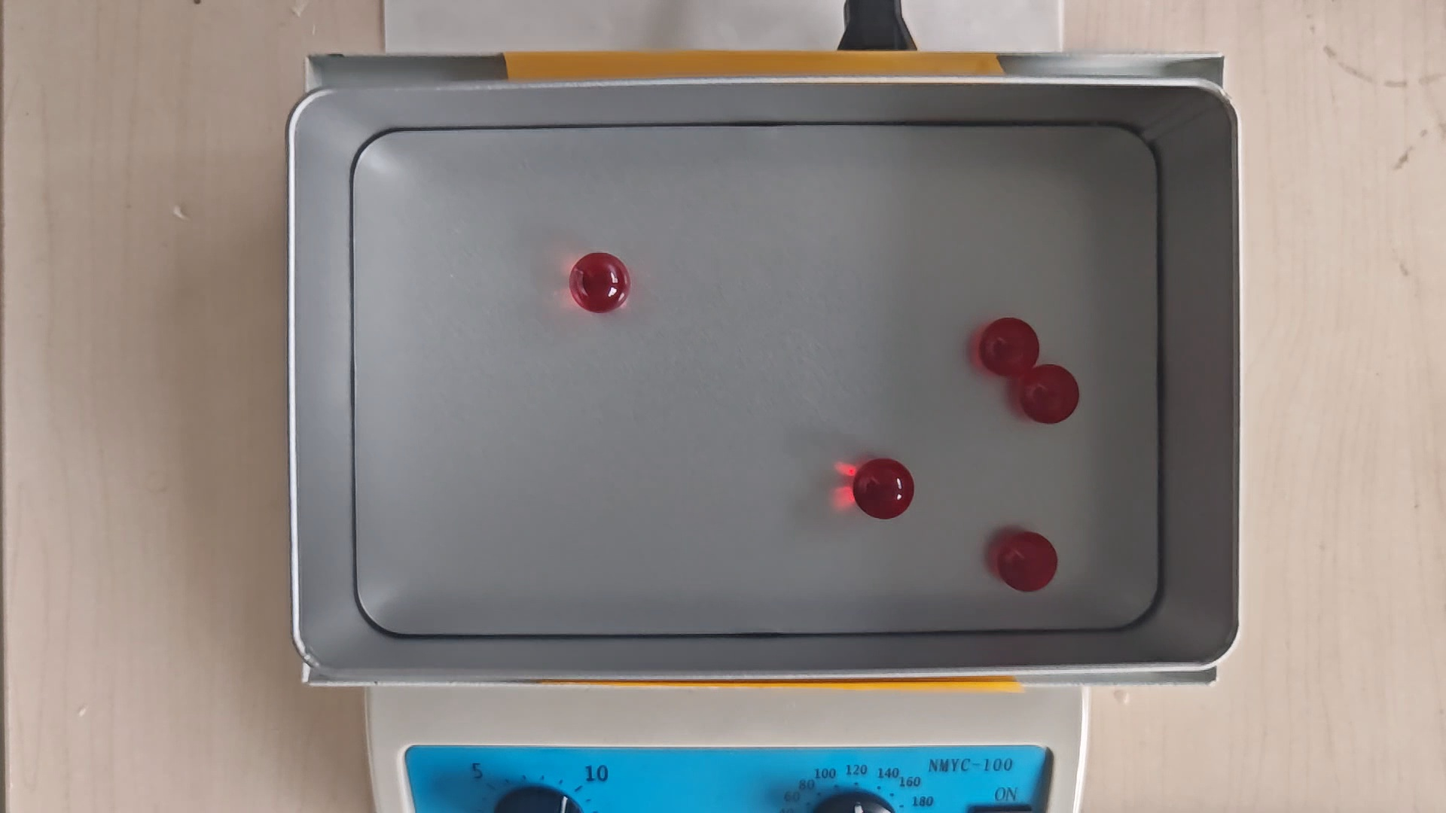ball: (569, 251, 633, 313), (978, 315, 1040, 379), (849, 459, 914, 520), (998, 531, 1058, 592), (1020, 364, 1079, 425)
container: (350, 122, 1161, 637)
